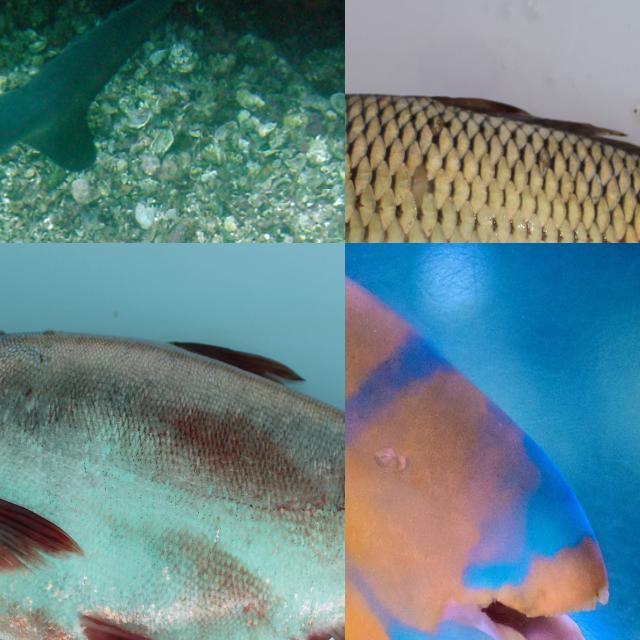fish: (0, 267, 345, 640), (0, 0, 345, 243), (345, 23, 640, 243), (345, 455, 507, 627)
